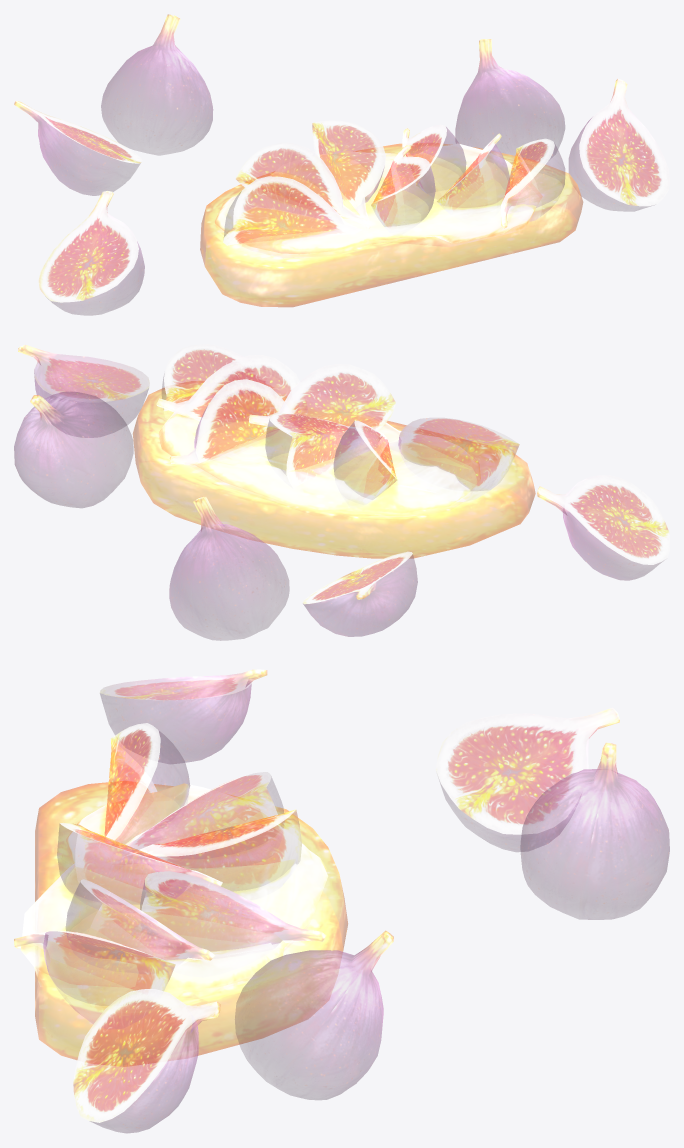
File: Rustic_bread_with_goat_cheese_and_figs.glb
3 views of the same model, one above another, from view 1: azimuth 30°, elevation 25°; view 2: azimuth 150°, elevation 25°; view 3: azimuth 270°, elevation 25° (orthographic). The views are drawn at different scales.
Parts seen in each view (by area): view 1: unnamed; view 2: unnamed; view 3: unnamed.
Boxes of the visible parts, left/top/right/bottom form: unnamed: left=14, top=14, right=669, bottom=315; unnamed: left=14, top=344, right=669, bottom=640; unnamed: left=14, top=669, right=669, bottom=1133.
Size of the model in its own units: 59.8 by 13.07 by 40.6.
Materials: 1 (1 with a texture image).
